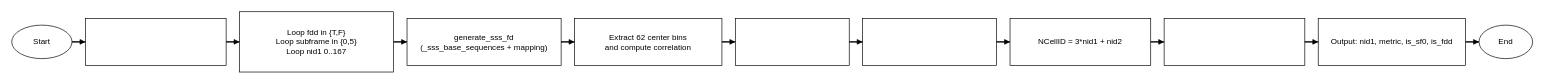
This 1544x84 diagram has some shape labels left out. Here are the shapes that lost their labels. From the top down, the box of each, then its label:
(85, 18, 226, 65): sss_detect_in_symbol Input: FFT symbol, nfft, nid2
(735, 18, 849, 65): Update best metric
(862, 18, 997, 65): Best: nid1, is_sf0, is_fdd
(1163, 18, 1305, 65): DuplexMode = FDD/TDD NSubframe = 0 or 5
